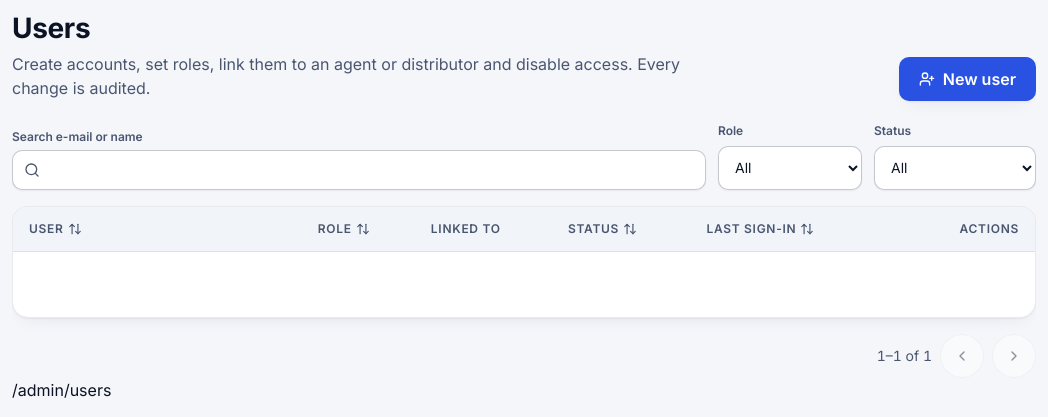
Test: admin users › keeps the role filter in the URL
The width and height of the screenshot is (1048, 417).
Select "Distributor" in the dropdown labelled "Role": (790, 168) x1=718 y1=146 x2=862 y2=190
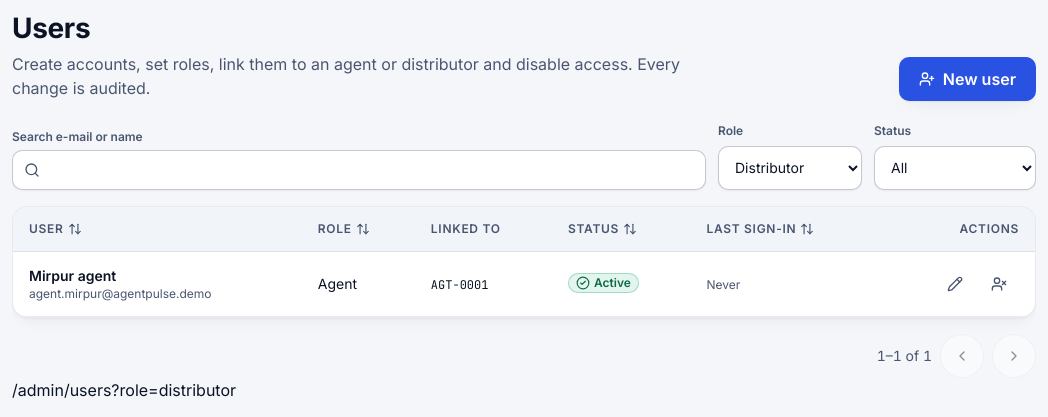
expect the text with test id "location" shows "role=distributor": met, box x1=12 y1=380 x2=236 y2=400
